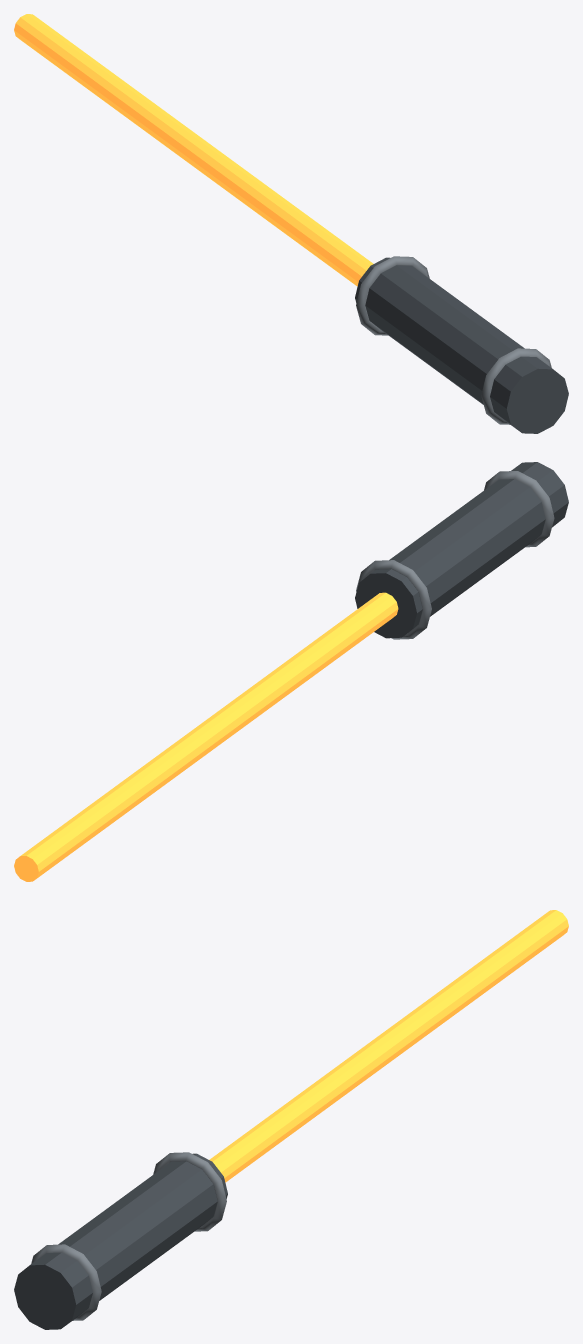
Rendered from WPN_Lightsaber_Prototype_TP_v01.glb.
3 views of the same model, one above another, from view 1: azimuth 30°, elevation 25°; view 2: azimuth 150°, elevation 25°; view 3: azimuth 330°, elevation 25° (orthographic).
Parts seen in each view (by area): view 1: MESH_Handle, MESH_Blade; view 2: MESH_Handle, MESH_Blade; view 3: MESH_Handle, MESH_Blade.
Boxes of the visible parts, box(x1,y1,x2,y2) form: MESH_Handle: box(355, 256, 568, 433); MESH_Blade: box(14, 14, 373, 286); MESH_Handle: box(355, 462, 568, 639); MESH_Blade: box(14, 592, 398, 881); MESH_Handle: box(14, 1152, 227, 1329); MESH_Blade: box(209, 910, 568, 1182).
Bounding box in the file's own units: 0.11 × 0.11 × 1.28.
